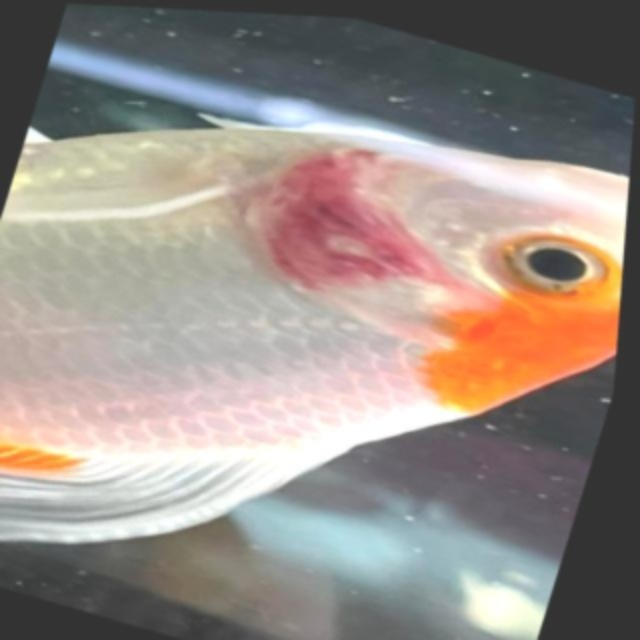Gill Disease: (164, 124, 617, 422)
